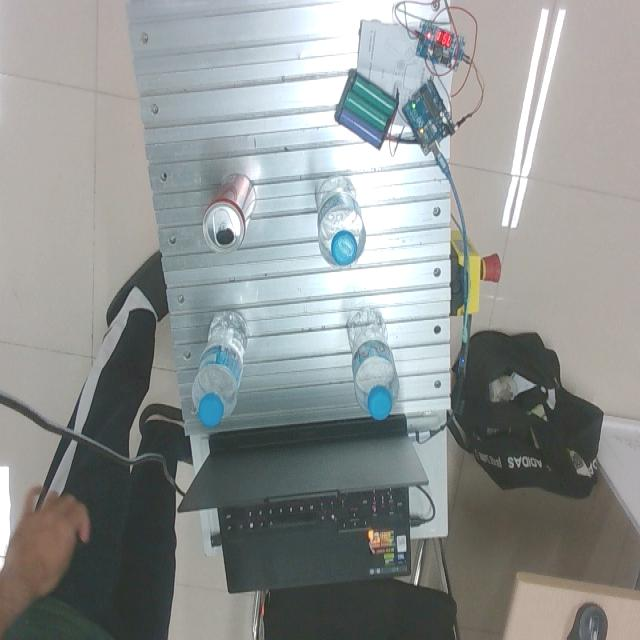coca: (202, 173, 256, 256)
lavie: (192, 311, 247, 425), (348, 308, 398, 417), (317, 178, 366, 270)
